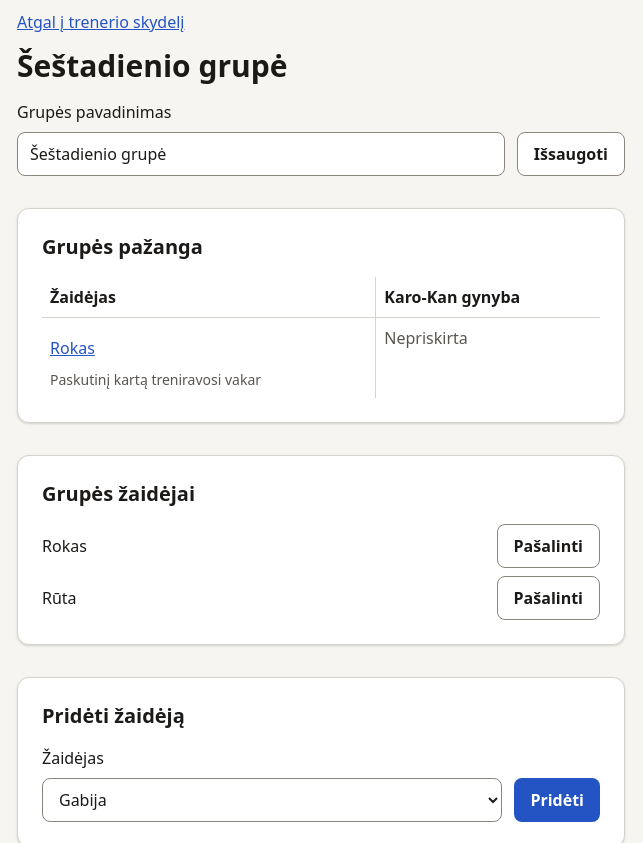
Scenario: GroupView › shows a refused Remove in the members section
Click the 1st button "Pašalinti": {"x": 548, "y": 546} top-left (497, 524), bottom-right (600, 568)
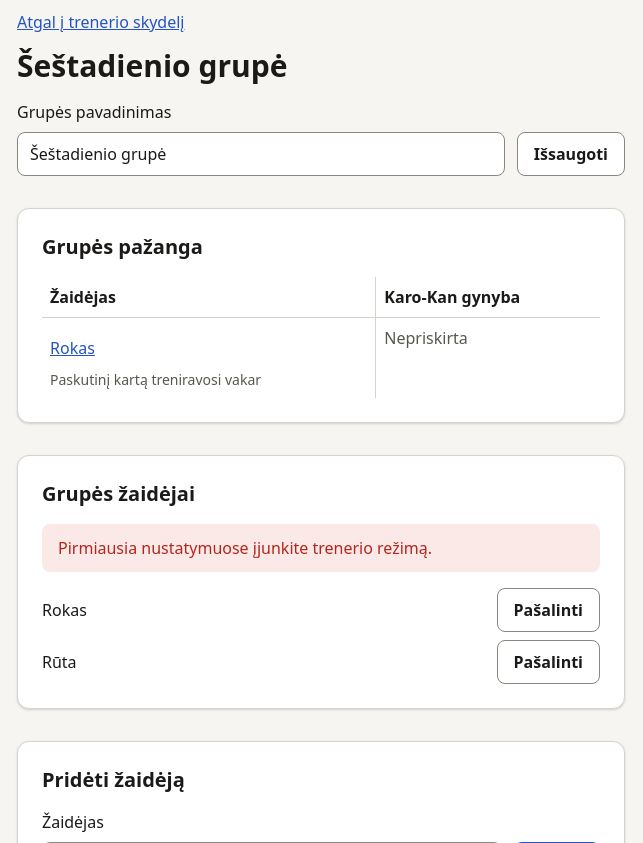
Result: the message reads "Pirmiausia nustatymuose įjunkite trenerio režimą." at top-left (58, 537), bottom-right (432, 559)
